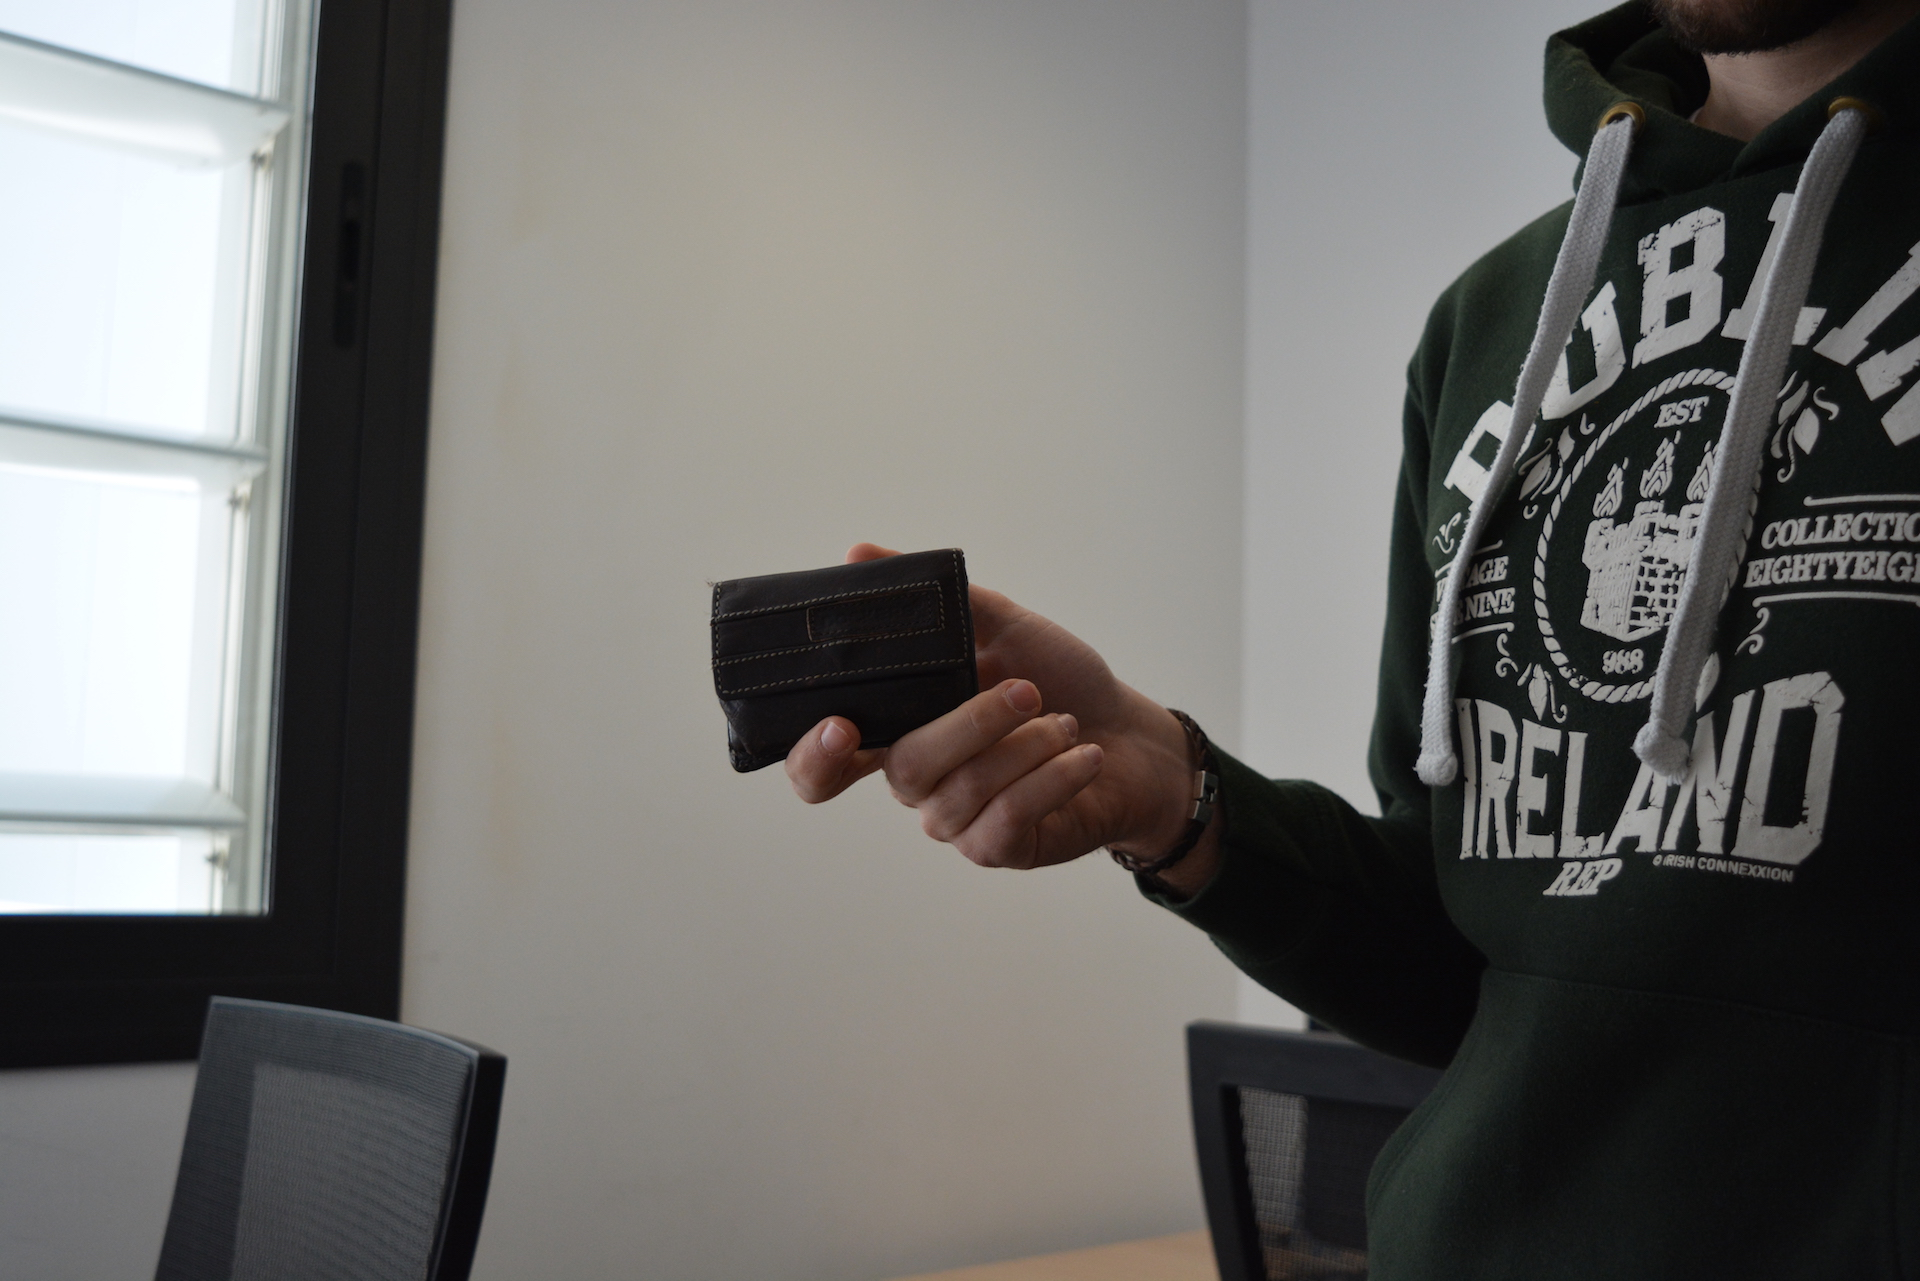monedero: (708, 545, 984, 776)
